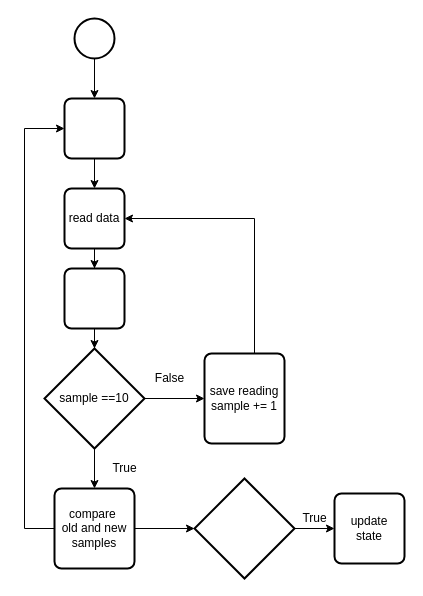
The diagram is 423 pixels wide and 596 high, and some of its shapes have lost their labels. The centre of each missing label's shape, as x and y in pixels:
change state: point (244, 528)
low pass filter: point (94, 298)
sample=0: point (94, 128)
